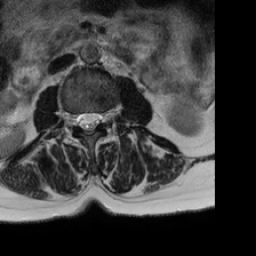CCS_normal: (84, 104, 92, 141)
LFS_normal: (101, 106, 110, 130)
LLS_normal: (92, 105, 101, 134)
RFS_normal: (68, 106, 76, 130)
RLS_normal: (76, 106, 84, 131)
